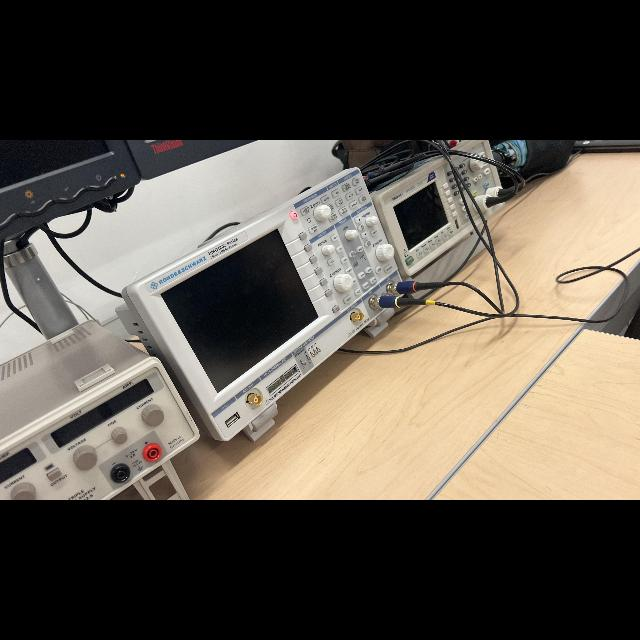Digital-Oscilloscope: (116, 168, 400, 441)
